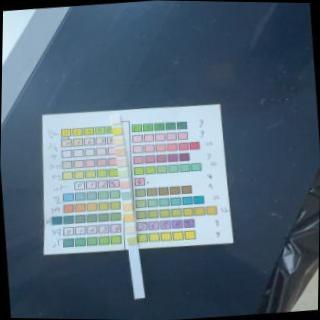mark: (120, 180, 130, 188), (119, 159, 127, 168), (111, 117, 120, 125), (127, 238, 137, 245), (123, 204, 131, 212), (123, 192, 131, 200), (125, 215, 134, 222), (113, 128, 122, 135), (116, 150, 126, 156), (126, 226, 134, 233), (115, 138, 124, 144), (120, 172, 128, 178)
